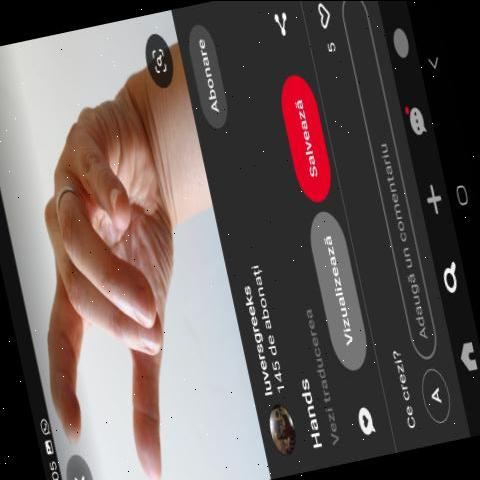Hands: (30, 26, 189, 480)
